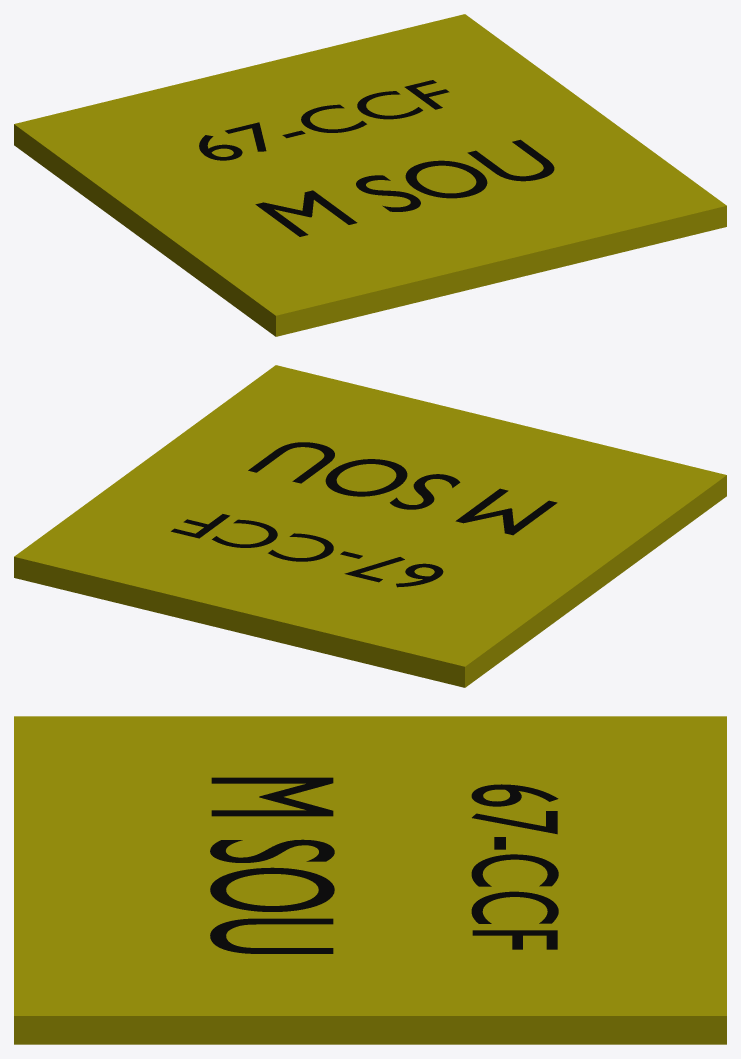
File: renault_ccfm_topA.glb
3 renders of one model, top to bottom at view 1: azimuth 30°, elevation 25°; view 2: azimuth 150°, elevation 25°; view 3: azimuth 270°, elevation 25°, orthographic. The views are drawn at different scales.
Parts seen in each view (by area): view 1: Cube.003, Text.007, Text.008; view 2: Cube.003, Text.007, Text.008; view 3: Cube.003, Text.007, Text.008.
Part boxes in pixels (x1,y1,x2,y2): Cube.003: (14,14,726,336); Text.007: (255,139,554,236); Text.008: (199,80,449,160); Cube.003: (14,365,726,687); Text.007: (248,442,557,535); Text.008: (171,514,443,587); Cube.003: (14,716,726,1044); Text.007: (210,777,334,953); Text.008: (471,784,558,949).
Bounding box in the file's own units: 1.99 × 0.1005 × 2.
